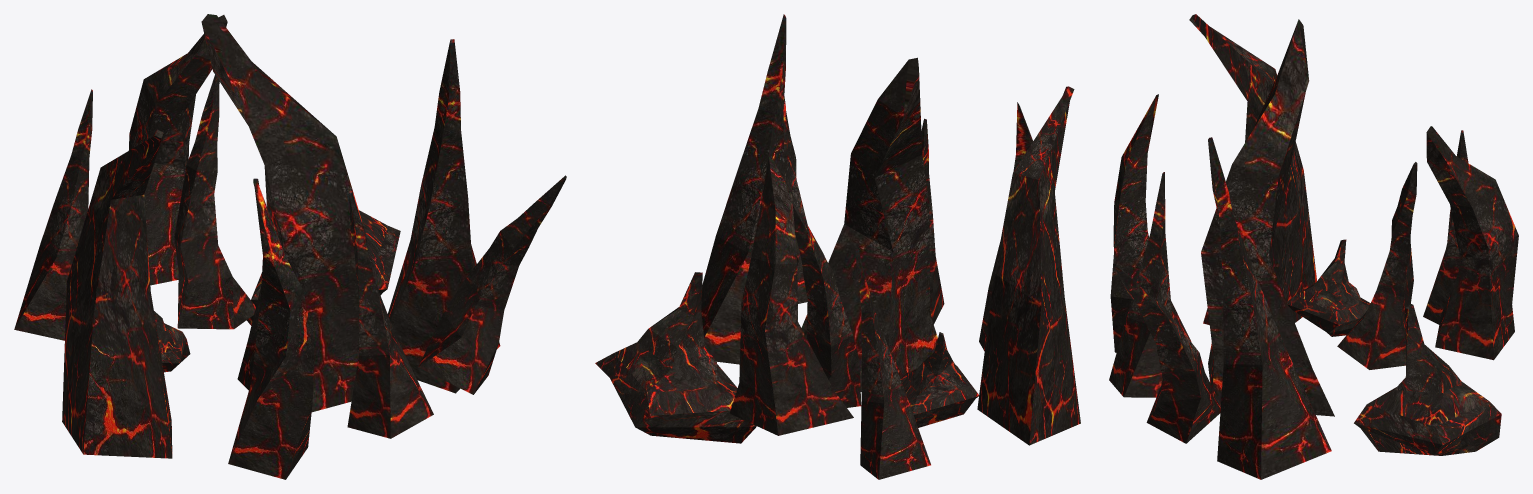
Rendered from groundSpikes.fbx.
3 views of the same model, side by side, from view 1: azimuth 30°, elevation 25°; view 2: azimuth 150°, elevation 25°; view 3: azimuth 270°, elevation 25° (orthographic). The views are drawn at different scales.
Visible parts, largest first — view 1: groundSpikes; view 2: groundSpikes; view 3: groundSpikes.
Part boxes in pixels (x1=…): groundSpikes: x1=14, y1=14, x2=566, y2=479; groundSpikes: x1=595, y1=14, x2=1080, y2=479; groundSpikes: x1=1109, y1=14, x2=1518, y2=479.
Size of the model in its own units: 4.31 by 3.86 by 4.02.
